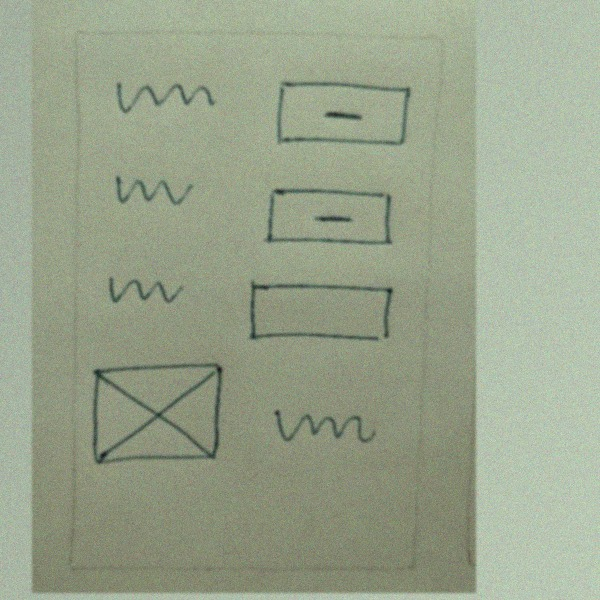button: (272, 72, 414, 155), (258, 174, 400, 257)
image: (83, 360, 226, 471)
text: (107, 69, 222, 122), (100, 162, 215, 215), (265, 400, 380, 453), (91, 259, 206, 311)
text_input: (244, 272, 397, 346)
